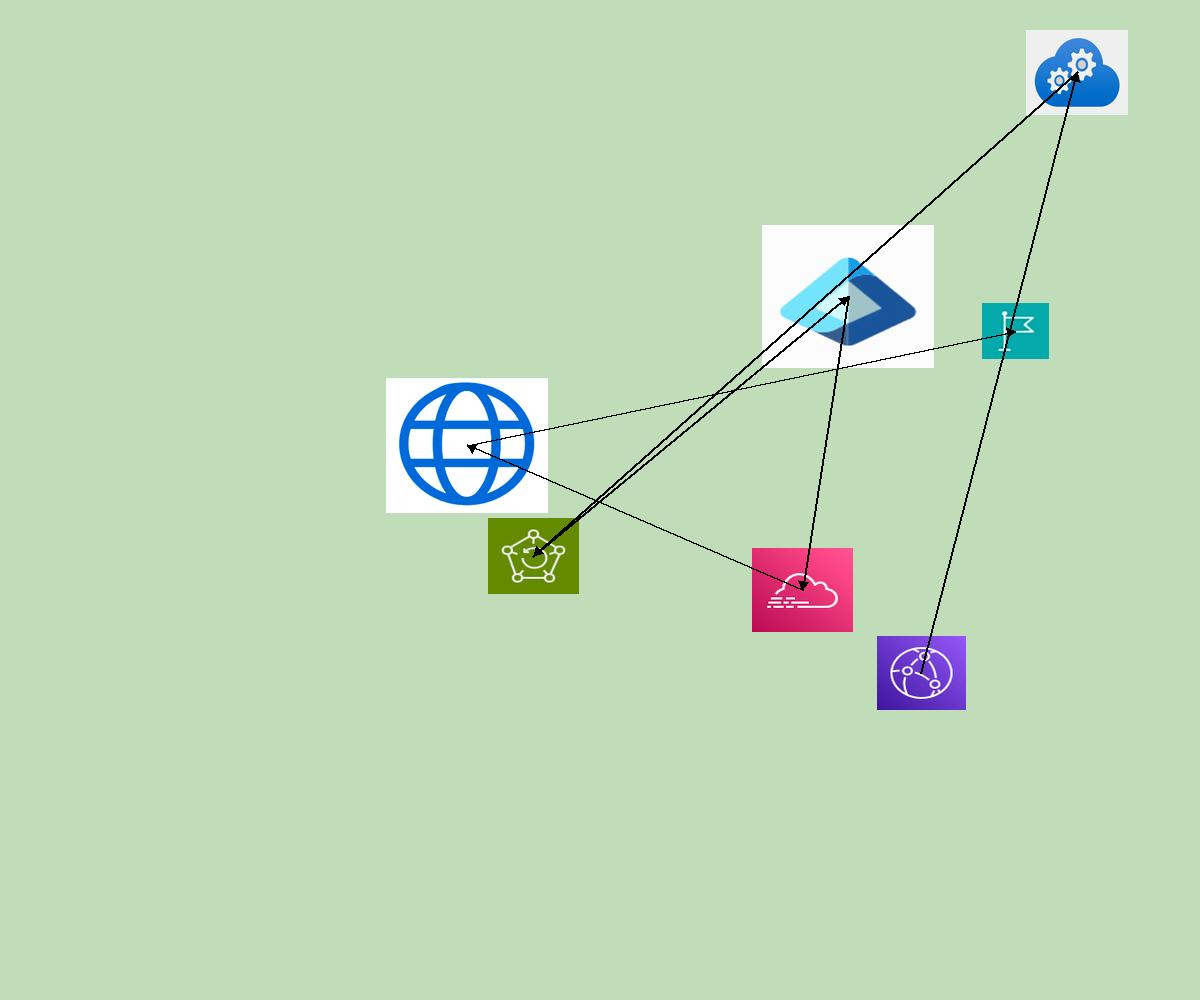AWS-Backup: (488, 518, 579, 594)
AWS-CloudFront: (877, 636, 966, 710)
AWS-CloudTrail: (752, 548, 853, 632)
AWS-Region: (982, 303, 1049, 359)
Azure_cloud_services: (1026, 30, 1128, 115)
Azure_http: (386, 378, 548, 513)
Azure_microsoft_entra: (762, 225, 934, 368)
